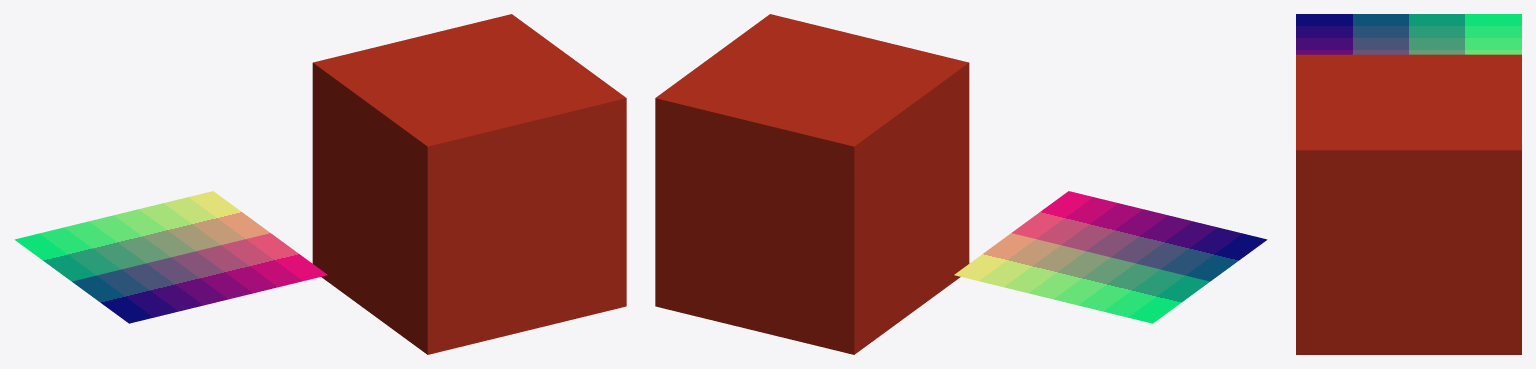
File: ours.fbx
3 views of the same model, side by side, from view 1: azimuth 30°, elevation 25°; view 2: azimuth 150°, elevation 25°; view 3: azimuth 270°, elevation 25° (orthographic).
Visible parts, largest first — view 1: box, plane; view 2: box, plane; view 3: box, plane.
Boxes of the visible parts, x1,y1,x2,y2 form: box: (312,14,626,354); plane: (14,191,327,323); box: (655,14,969,354); plane: (954,191,1267,323); box: (1296,54,1521,354); plane: (1296,14,1521,54).
Bounding box in the file's own units: 5 × 2 × 2.
Materials: 2 (1 with a texture image).
